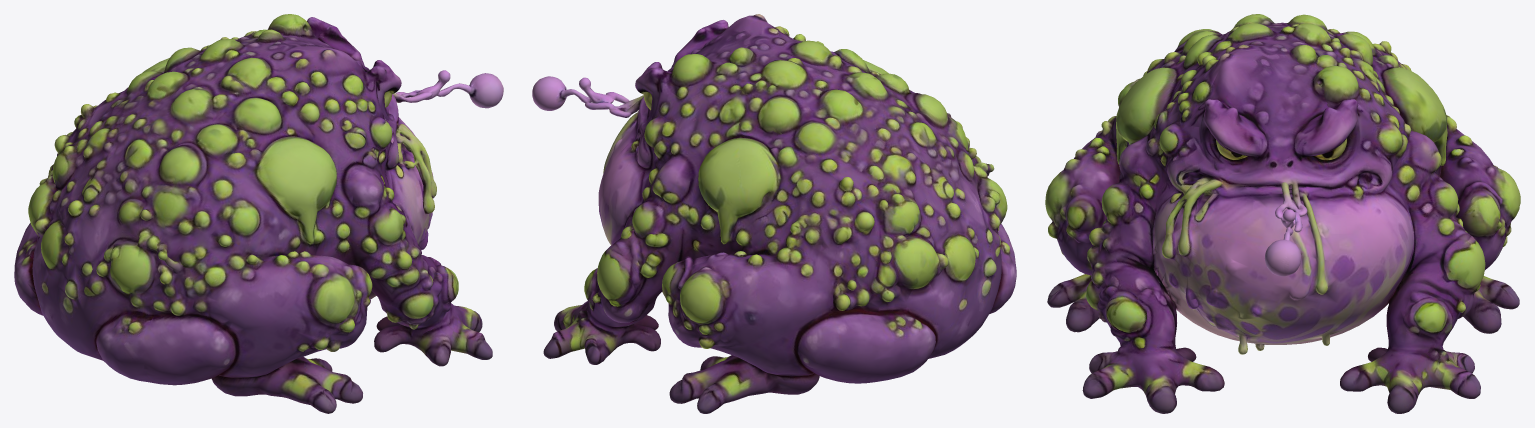
Rendered from n4_gloomtoad.1cec8a6e.glb.
3 views of the same model, side by side, from view 1: azimuth 30°, elevation 25°; view 2: azimuth 150°, elevation 25°; view 3: azimuth 270°, elevation 25° (orthographic). The views are drawn at different scales.
Parts seen in each view (by area): view 1: tripo_node_88fc54d7-623c-47f8-9324-b243babddf53; view 2: tripo_node_88fc54d7-623c-47f8-9324-b243babddf53; view 3: tripo_node_88fc54d7-623c-47f8-9324-b243babddf53.
Boxes of the visible parts, x1,y1,x2,y2 form: tripo_node_88fc54d7-623c-47f8-9324-b243babddf53: (14, 14, 503, 413); tripo_node_88fc54d7-623c-47f8-9324-b243babddf53: (532, 14, 1016, 413); tripo_node_88fc54d7-623c-47f8-9324-b243babddf53: (1045, 14, 1520, 413).
Bounding box in the file's own units: 0.9995 × 0.6123 × 0.8748.
1 material, 1 textured.
